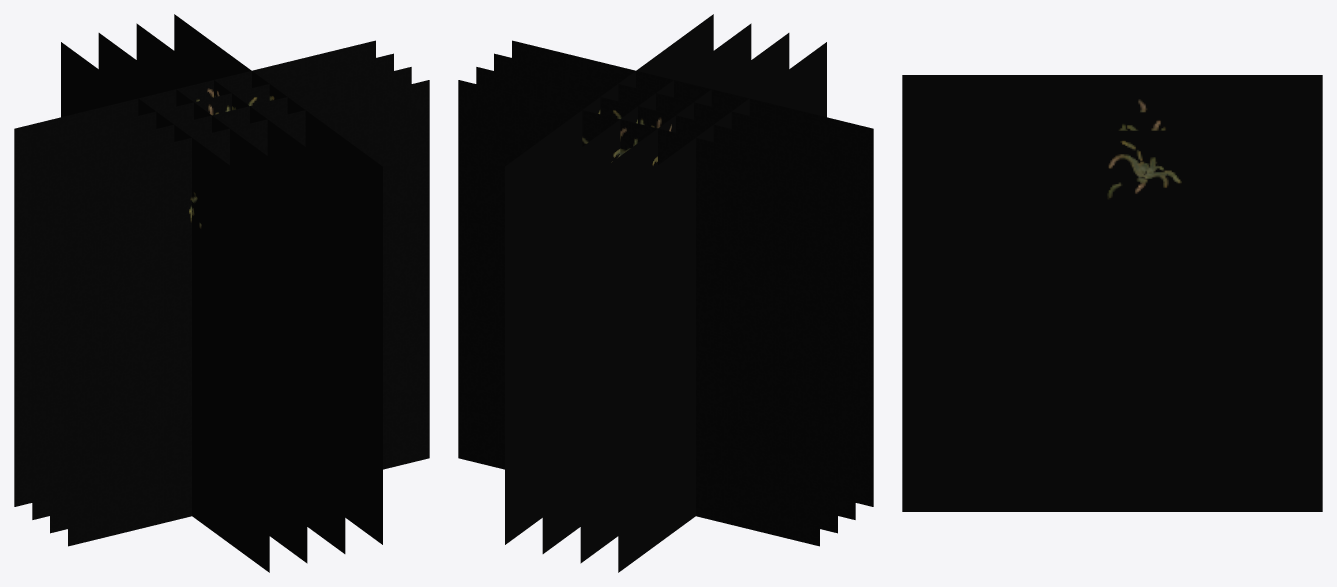
The model's file is quiver_tree.glb.
The picture shows the model from 3 angles, left to right: view 1: azimuth 30°, elevation 25°; view 2: azimuth 150°, elevation 25°; view 3: azimuth 270°, elevation 25°; orthographic projection.
Parts seen in each view (by area): view 1: quiver_tree; view 2: quiver_tree; view 3: quiver_tree.
Part boxes in pixels (box(x1,y1,x2,y2)): quiver_tree: box(14, 14, 429, 572); quiver_tree: box(458, 14, 873, 572); quiver_tree: box(902, 75, 1322, 511).
Size of the model in its own units: 2.82 by 2.82 by 2.82.
1 material, 1 textured.
